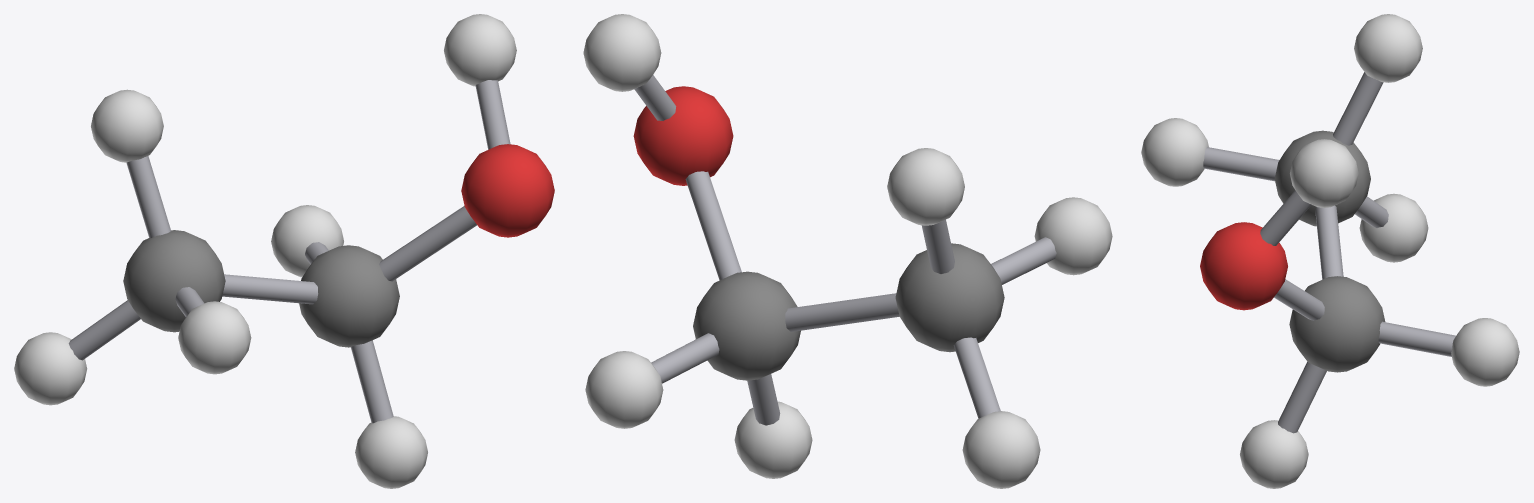
File: ethanol.glb
3 views of the same model, side by side, from view 1: azimuth 30°, elevation 25°; view 2: azimuth 150°, elevation 25°; view 3: azimuth 270°, elevation 25° (orthographic). The views are drawn at different scales.
Parts seen in each view (by area): view 1: ethanol; view 2: ethanol; view 3: ethanol.
Part boxes in pixels (<box>): ethanol: <box>14,14,554,488</box>; ethanol: <box>583,14,1112,488</box>; ethanol: <box>1141,14,1519,488</box>.
Bounding box in the file's own units: 3.6 × 3.17 × 2.75.
